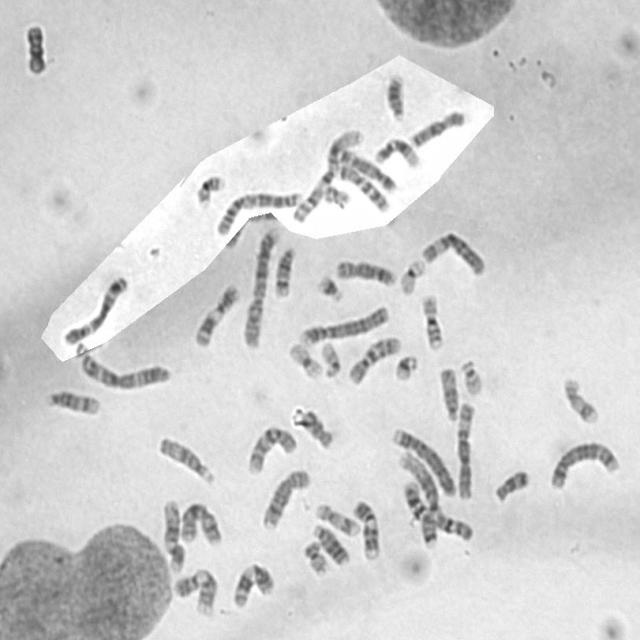A1: (393, 444, 476, 544), (286, 123, 366, 225)
A2: (238, 223, 280, 349), (212, 184, 306, 236)
A3: (58, 268, 130, 346), (75, 348, 173, 391)
B4: (386, 420, 458, 499), (294, 297, 391, 348)
B5: (545, 434, 622, 491), (334, 144, 398, 193)
C10: (342, 328, 403, 386), (242, 418, 298, 476)
C11: (190, 277, 242, 349), (227, 556, 276, 609)
C12: (157, 494, 186, 574), (369, 131, 422, 169)
C6: (416, 225, 488, 277), (451, 395, 476, 501)
C7: (334, 154, 392, 214), (398, 474, 441, 549)
C8: (256, 463, 312, 532), (330, 253, 398, 287)
C9: (168, 562, 219, 618), (348, 493, 382, 562)
D13: (307, 518, 351, 566), (381, 68, 407, 122)
D14: (40, 383, 103, 416), (269, 240, 298, 298)
D15: (152, 429, 216, 486), (434, 360, 461, 423)
E16: (416, 288, 446, 351), (190, 168, 227, 208)
E17: (558, 370, 601, 425), (310, 496, 362, 538)
E18: (288, 401, 335, 451), (489, 462, 531, 504)
F19: (284, 335, 324, 380), (394, 252, 428, 295)
F20: (298, 534, 329, 577), (318, 178, 351, 207)
G21: (312, 267, 346, 303), (389, 347, 420, 382)
G22: (456, 353, 486, 396), (316, 336, 344, 378)
X: (405, 103, 469, 149), (175, 495, 224, 547)
